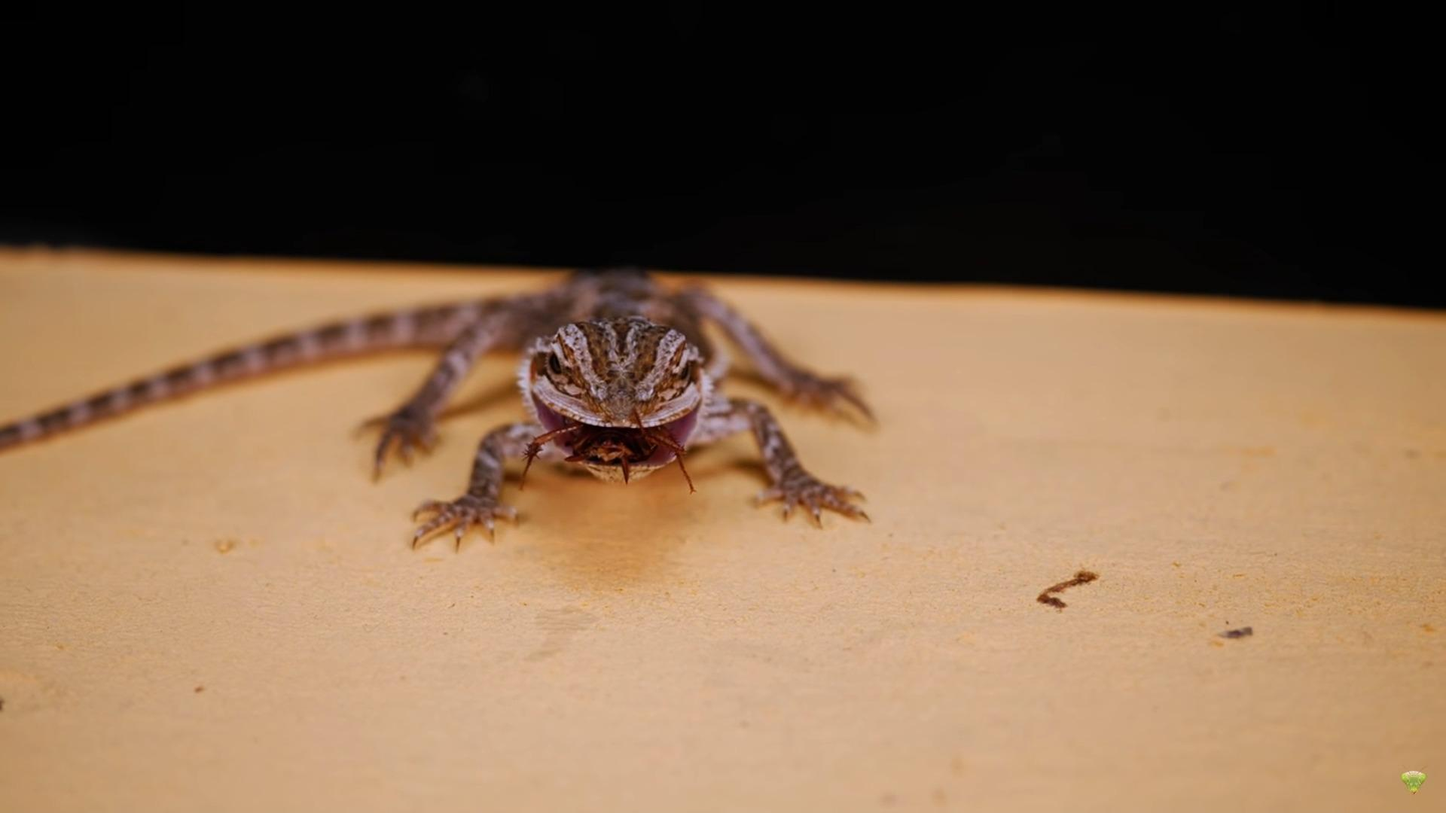cockroach: (507, 413, 708, 500)
lizard: (390, 275, 844, 587)
